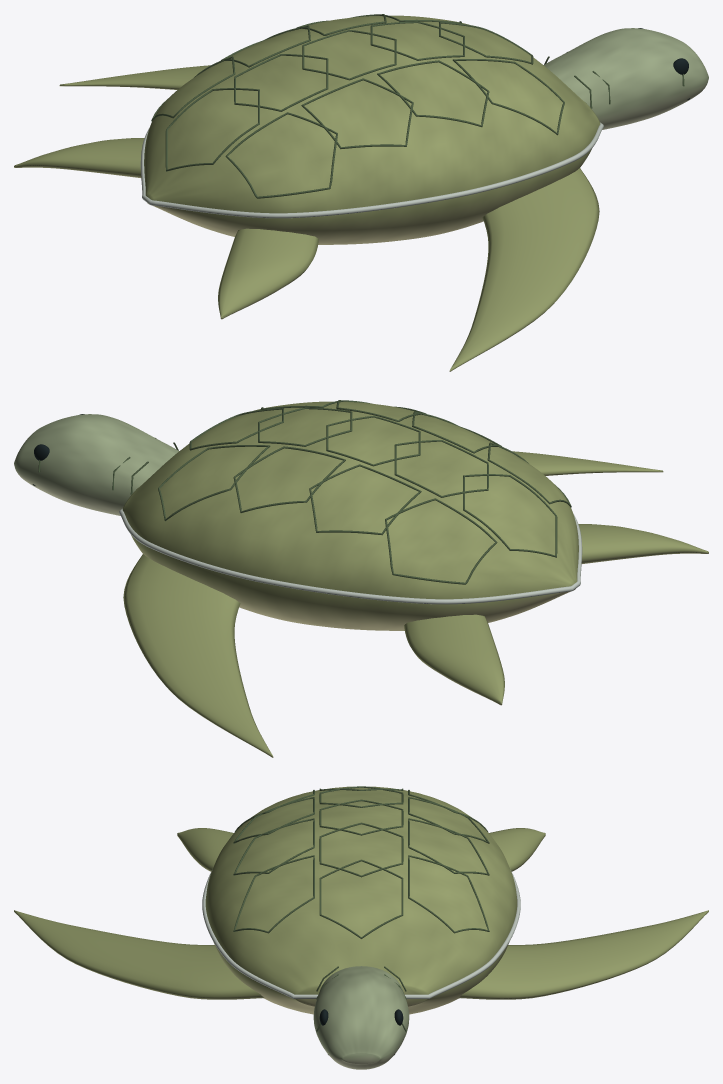
The model's file is turtle.glb.
The picture shows the model from 3 angles, top to bottom: view 1: azimuth 30°, elevation 25°; view 2: azimuth 150°, elevation 25°; view 3: azimuth 270°, elevation 25°; orthographic projection. The views are drawn at different scales.
Parts seen in each view (by area): view 1: turtle; view 2: turtle; view 3: turtle.
Part boxes in pixels (x1,y1,x2,y2): turtle: (14,14,708,371); turtle: (14,400,708,757); turtle: (14,786,708,1069).
Size of the model in its own units: 3.15 by 0.8884 by 3.66.
